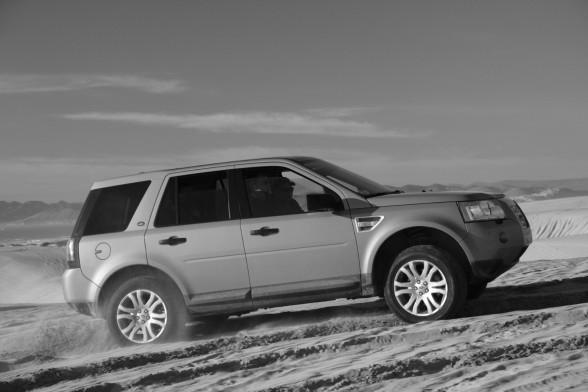car: (61, 158, 535, 350)
